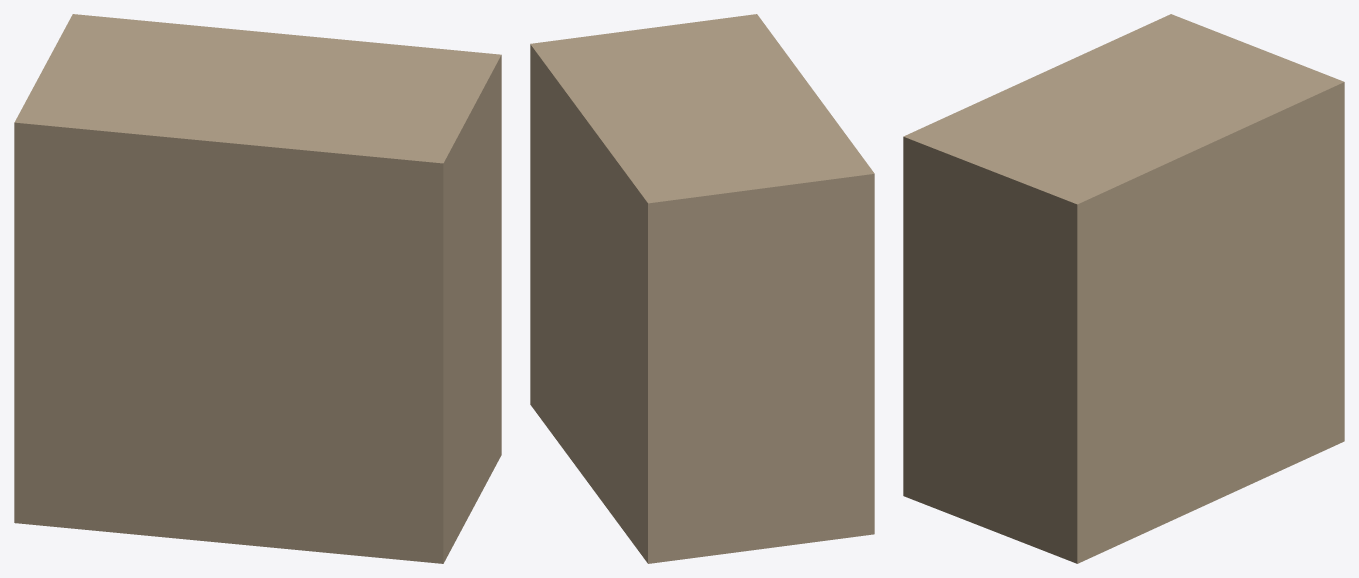
The model's file is bld_99015955.dae.
3 views of the same model, side by side, from view 1: azimuth 30°, elevation 25°; view 2: azimuth 150°, elevation 25°; view 3: azimuth 270°, elevation 25° (orthographic). The views are drawn at different scales.
Parts seen in each view (by area): view 1: bld_99015955; view 2: bld_99015955; view 3: bld_99015955.
Boxes of the visible parts, bbox=[...] form: bld_99015955: bbox=[14, 14, 501, 563]; bld_99015955: bbox=[530, 14, 874, 563]; bld_99015955: bbox=[903, 14, 1344, 563].
Bounding box in the file's own units: 9.09 × 8.9 × 8.
